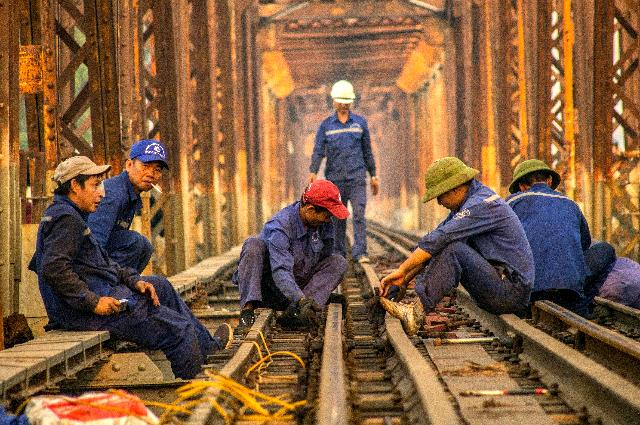helmet: (332, 77, 361, 101)
